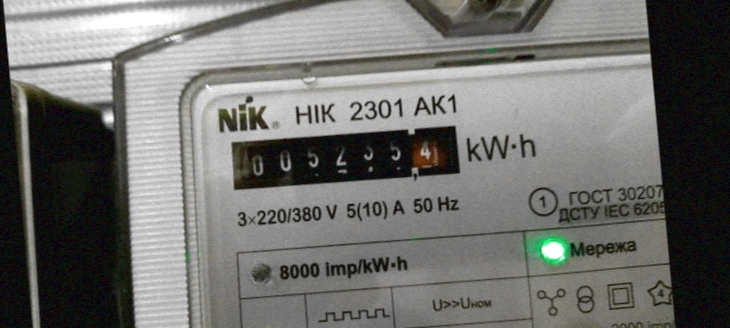0: (248, 152, 266, 179), (276, 147, 292, 174)
2: (331, 141, 347, 168)
3: (359, 137, 375, 163)
4: (416, 136, 433, 163)
5: (386, 135, 403, 164), (303, 144, 320, 171)
screen: (219, 112, 472, 203)
